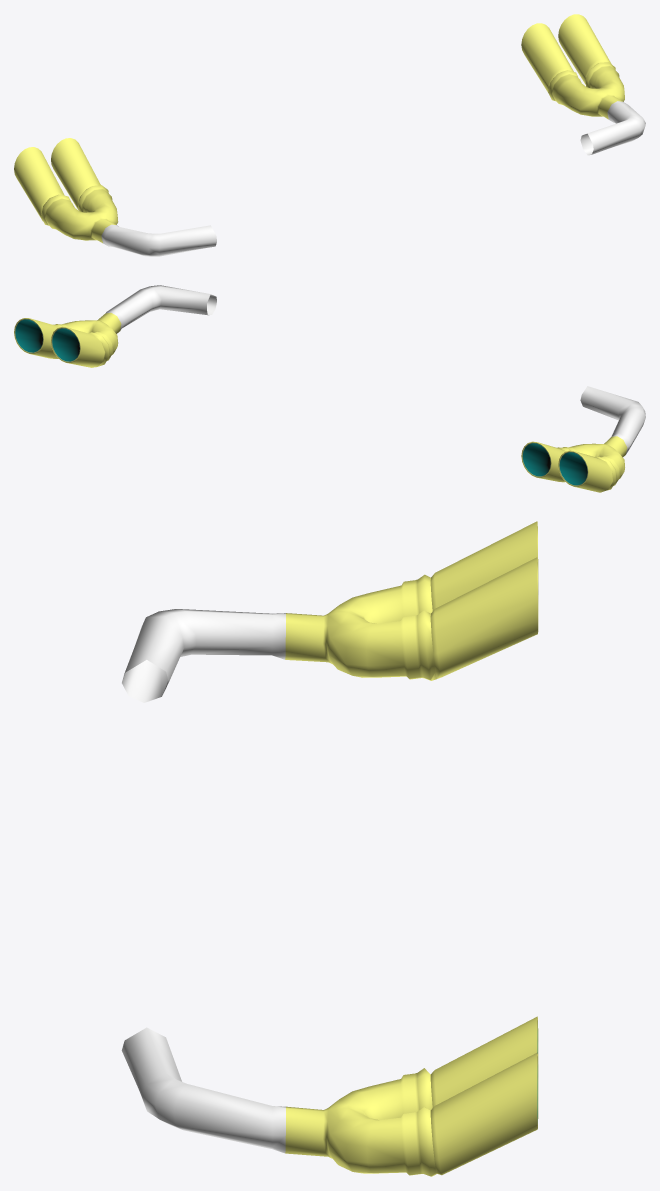
Rendered from Car_Mini_CountrymanJCW_2017_Exhausts_SetFC_AltA.fbx.
3 views of the same model, one above another, from view 1: azimuth 30°, elevation 25°; view 2: azimuth 150°, elevation 25°; view 3: azimuth 270°, elevation 25° (orthographic). The views are drawn at different scales.
Visible parts, largest first — view 1: Exhausts 6; view 2: Exhausts 6; view 3: Exhausts 6.
Boxes of the visible parts, bbox=[...] form: Exhausts 6: bbox=[14, 14, 645, 256]; Exhausts 6: bbox=[14, 285, 645, 492]; Exhausts 6: bbox=[121, 521, 538, 1176].
Size of the model in its own units: 1.23 by 0.1277 by 0.3871.
